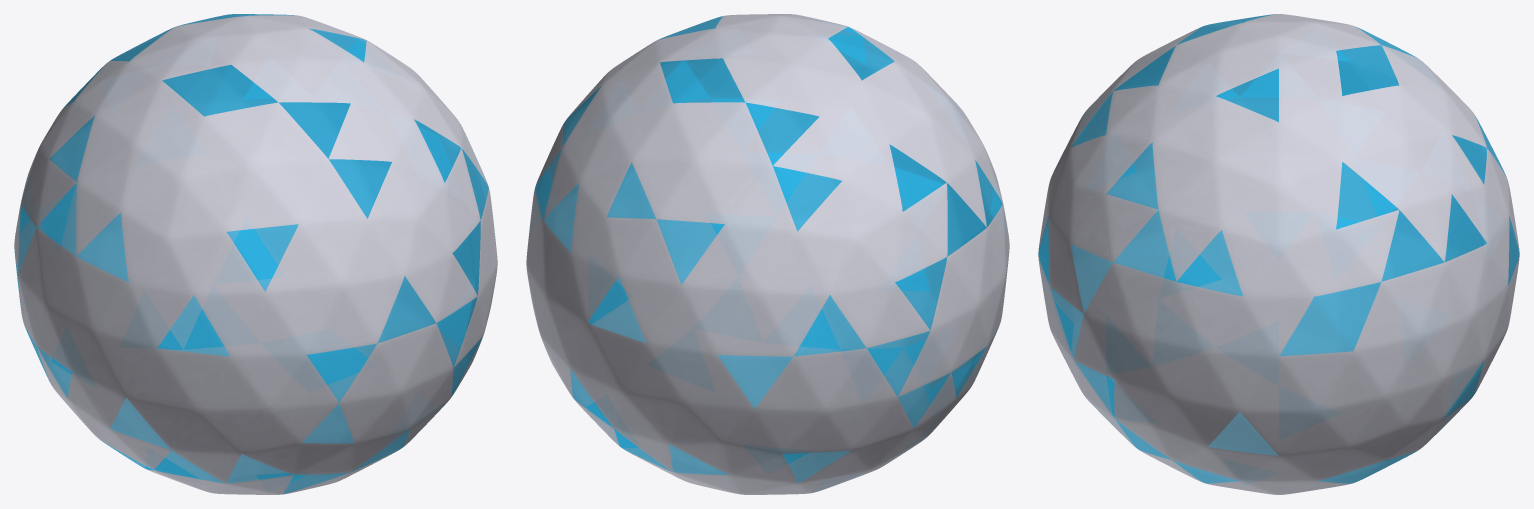
3 views of the same model, side by side, from view 1: azimuth 30°, elevation 25°; view 2: azimuth 150°, elevation 25°; view 3: azimuth 270°, elevation 25° (orthographic).
Size of the model in its own units: 1.99 by 1.99 by 1.99.
